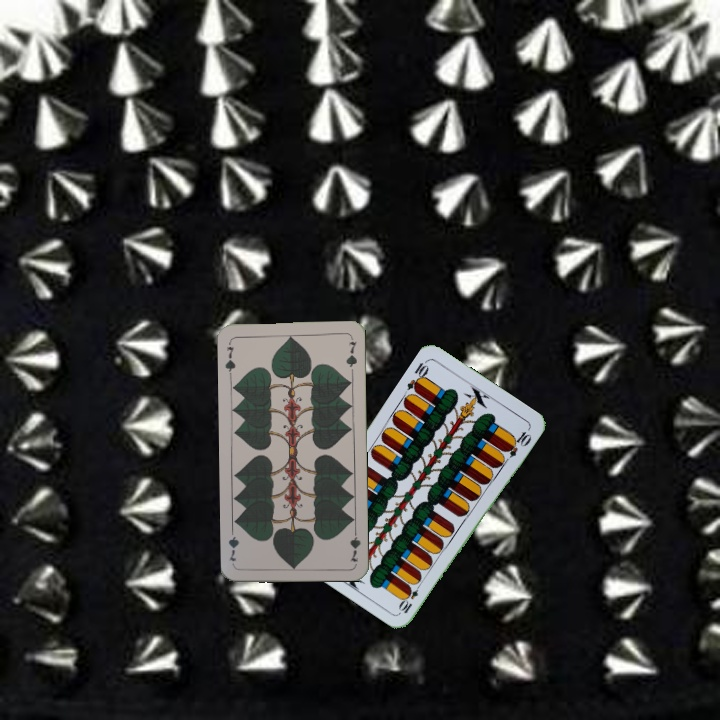E10: (403, 356, 432, 395), (396, 578, 424, 616)
G7: (346, 524, 363, 565), (221, 337, 238, 378)
